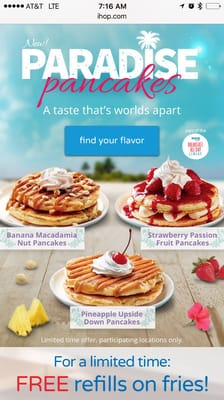curry: (5, 161, 224, 349)
salad: (5, 168, 103, 227)
sushi: (124, 160, 223, 227), (64, 249, 166, 306), (5, 168, 103, 227)
